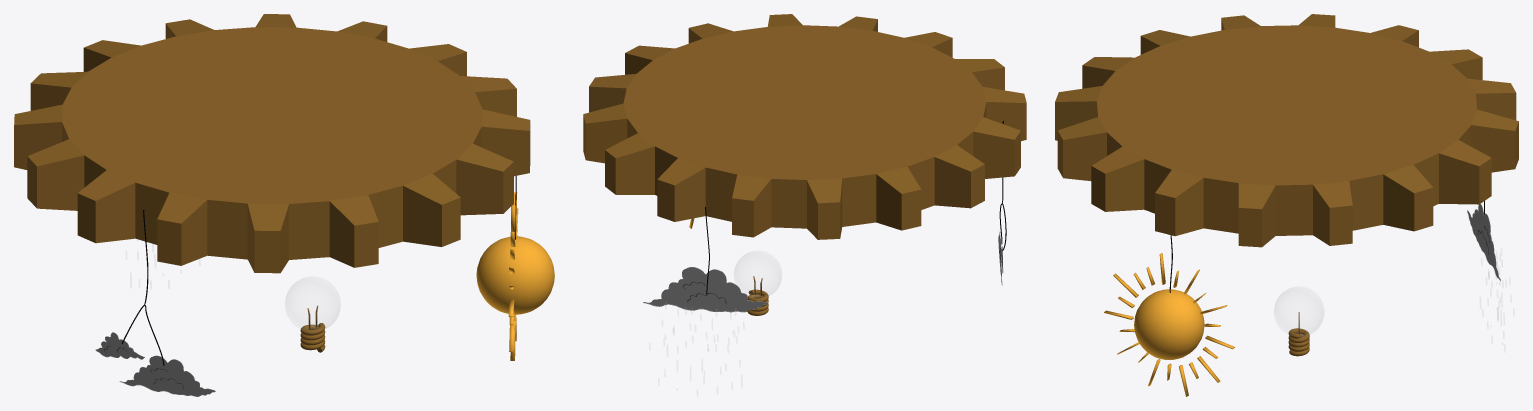
File: light_bulb_crank_alpha.glb
3 views of the same model, side by side, from view 1: azimuth 30°, elevation 25°; view 2: azimuth 150°, elevation 25°; view 3: azimuth 270°, elevation 25° (orthographic). The views are drawn at different scales.
Visible parts, largest first — view 1: crank, Clear, Clouds, bulb, bulbHolder; view 2: crank, Rain, bulb, bulbHolder; view 3: crank, Clear, bulb, Rain, bulbHolder.
Boxes of the visible parts, x1,y1,x2,y2 form: crank: (14,14,530,273); Clear: (476,192,554,360); Clouds: (95,332,215,396); bulb: (285,277,340,329); bulbHolder: (300,323,325,352); crank: (583,14,1026,239); Rain: (643,267,768,312); bulb: (734,251,781,298); bulbHolder: (747,289,768,315); crank: (1055,14,1518,247); Clear: (1104,253,1234,396); bulb: (1274,287,1323,336); Rain: (1467,204,1500,280); bulbHolder: (1288,328,1309,356).
Bounding box in the file's own units: 33.71 × 18.8 × 33.85.
